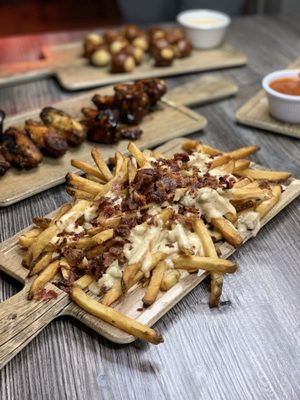sushi: (176, 8, 231, 50), (261, 69, 300, 125)
